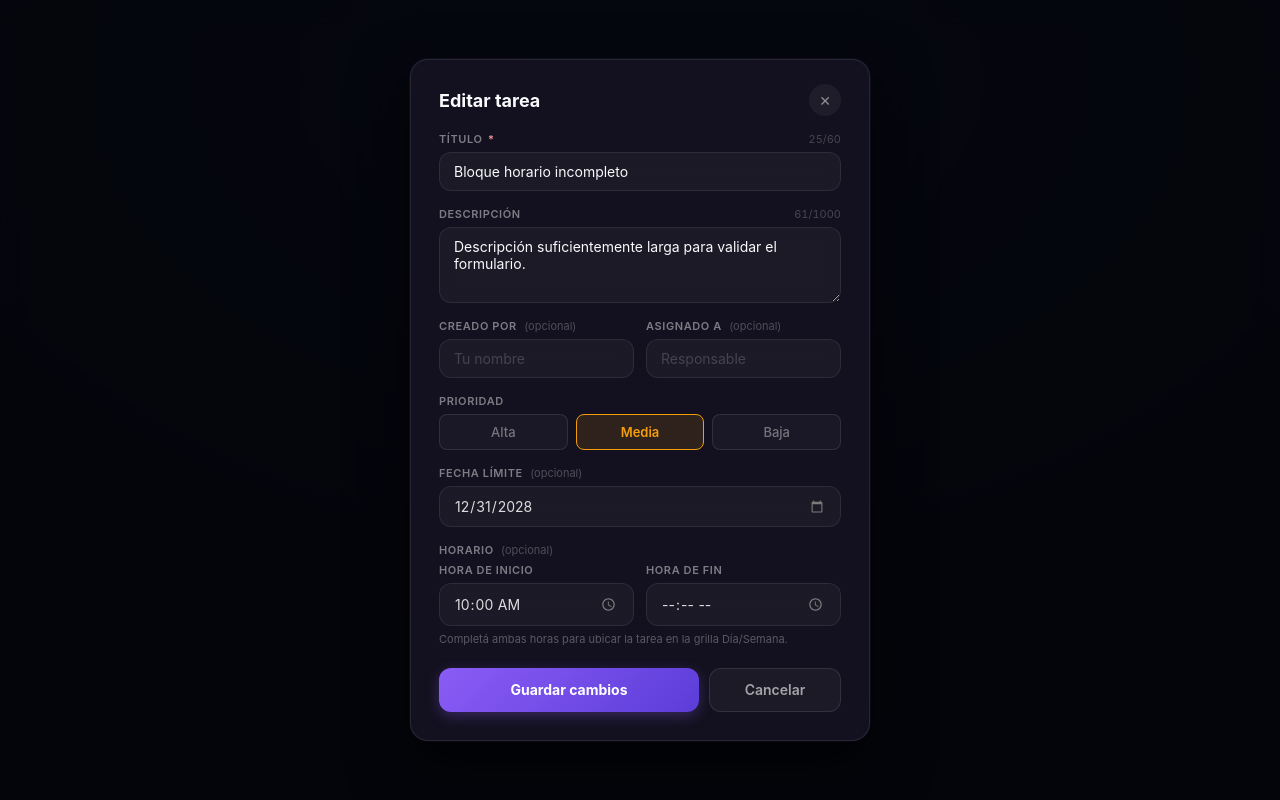
Test case: TaskForm › rechaza un horario incompleto
Click the button "Guardar cambios" at [569, 690], box [439,668,699,712]
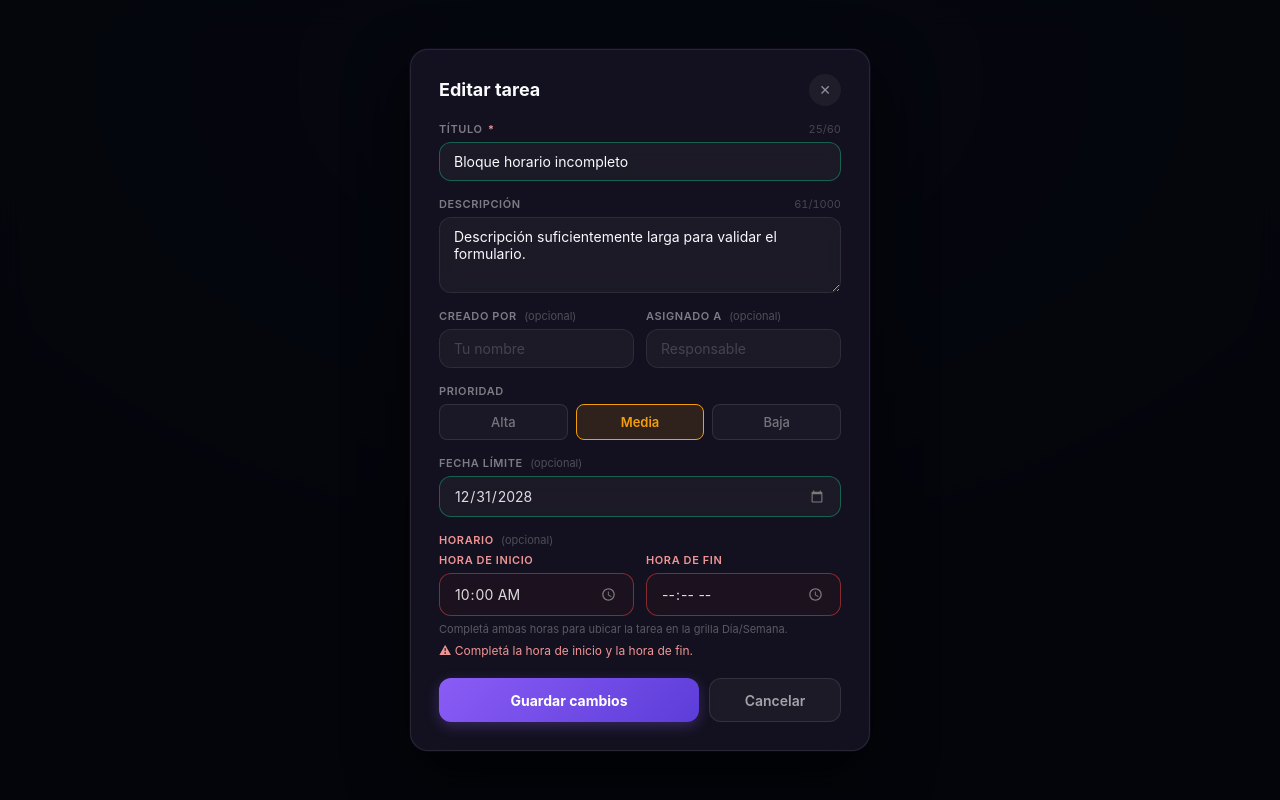
Check: the text "⚠ Completá la hora de inicio y la hora de fin." is shown, box [439,643,693,658]
